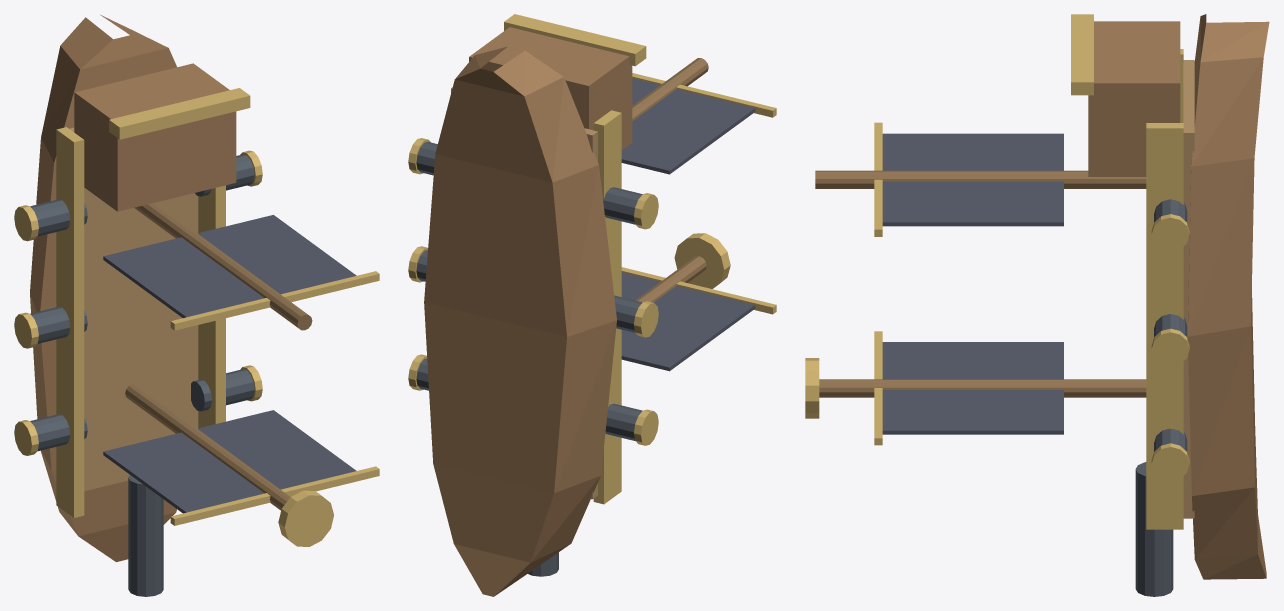
The model's file is RoyalPirate_Navio01_Modular.glb.
3 views of the same model, side by side, from view 1: azimuth 30°, elevation 25°; view 2: azimuth 150°, elevation 25°; view 3: azimuth 270°, elevation 25° (orthographic). The views are drawn at different scales.
Visible parts, largest first — view 1: 02_Conves, 09_Cabine_Popa, 01_Casco, 06_Vela_-1.9, 06_Vela_2.1, 03_Borda_-1, 11_Canhao_Proa, 03_Borda_1, 10_Balaustrada_Popa, 04_Mastro_2.1, 04_Mastro_-1.9, 12_Coroa_Mastro (+10 smaller); view 2: 01_Casco, 09_Cabine_Popa, 06_Vela_2.1, 06_Vela_-1.9, 03_Borda_-1, 10_Balaustrada_Popa, 12_Coroa_Mastro, 04_Mastro_2.1, 04_Mastro_-1.9, 07_Canhao_-1_2, 07_Canhao_-1_0, 05_Vergas_-1.9 (+6 smaller); view 3: 01_Casco, 06_Vela_2.1, 06_Vela_-1.9, 09_Cabine_Popa, 03_Borda_1, 04_Mastro_-1.9, 04_Mastro_2.1, 11_Canhao_Proa, 02_Conves, 10_Balaustrada_Popa, 08_Boca_1_2, 08_Boca_1_0 (+4 smaller).
Boxes of the visible parts, <box> form: 02_Conves: <box>69,127,198,491</box>; 09_Cabine_Popa: <box>74,63,236,211</box>; 01_Casco: <box>30,15,176,561</box>; 06_Vela_-1.9: <box>103,410,356,513</box>; 06_Vela_2.1: <box>103,215,356,317</box>; 03_Borda_-1: <box>56,127,84,517</box>; 11_Canhao_Proa: <box>128,475,163,596</box>; 03_Borda_1: <box>198,185,225,428</box>; 10_Balaustrada_Popa: <box>109,88,250,139</box>; 04_Mastro_2.1: <box>134,202,312,330</box>; 04_Mastro_-1.9: <box>125,384,290,510</box>; 12_Coroa_Mastro: <box>278,490,333,546</box>; 01_Casco: <box>424,46,616,596</box>; 09_Cabine_Popa: <box>469,27,632,150</box>; 06_Vela_2.1: <box>621,78,755,174</box>; 06_Vela_-1.9: <box>621,272,755,371</box>; 03_Borda_-1: <box>593,110,621,504</box>; 10_Balaustrada_Popa: <box>504,14,646,66</box>; 12_Coroa_Mastro: <box>674,233,730,288</box>; 04_Mastro_2.1: <box>632,58,708,120</box>; 04_Mastro_-1.9: <box>635,256,706,302</box>; 07_Canhao_-1_2: <box>603,187,642,224</box>; 07_Canhao_-1_0: <box>605,403,642,440</box>; 05_Vergas_-1.9: <box>621,267,776,314</box>; 01_Casco: <box>1188,14,1269,579</box>; 06_Vela_2.1: <box>882,133,1063,226</box>; 06_Vela_-1.9: <box>882,342,1063,434</box>; 09_Cabine_Popa: <box>1088,21,1180,176</box>; 03_Borda_1: <box>1146,123,1183,529</box>; 04_Mastro_-1.9: <box>819,379,1146,397</box>; 04_Mastro_2.1: <box>815,170,1146,188</box>; 11_Canhao_Proa: <box>1135,462,1173,596</box>; 02_Conves: <box>1183,60,1194,518</box>; 10_Balaustrada_Popa: <box>1071,14,1093,95</box>; 08_Boca_1_2: <box>1151,214,1189,251</box>; 08_Boca_1_0: <box>1151,443,1189,481</box>.
Size of the model in its own units: 4.95 by 10.95 by 8.07.
